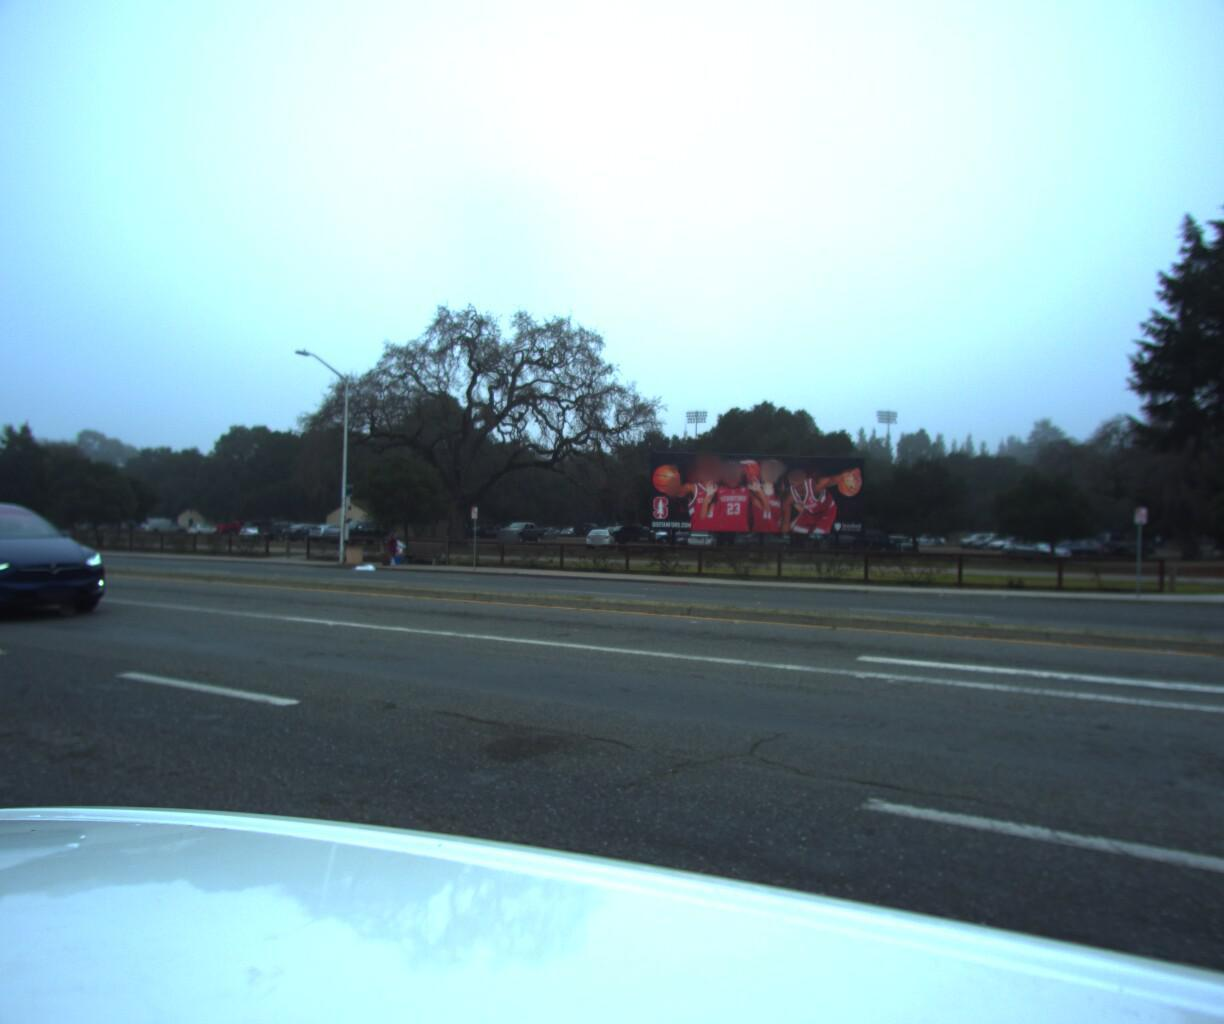car: (0, 491, 131, 630)
